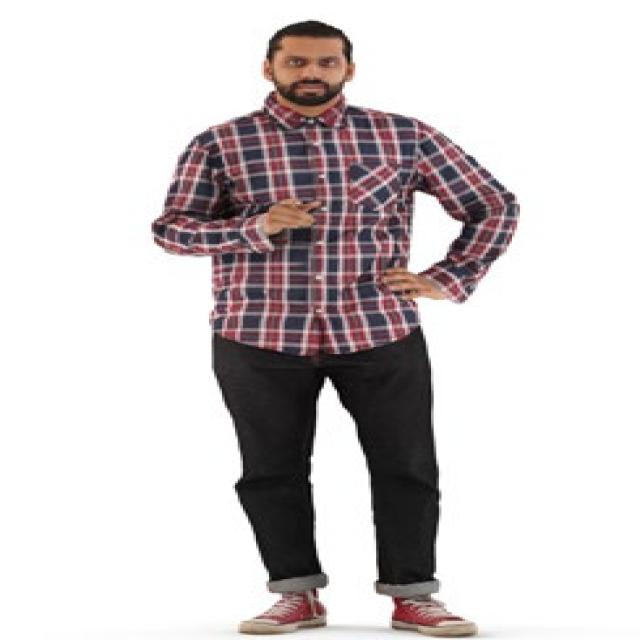standing: (143, 17, 522, 640)
